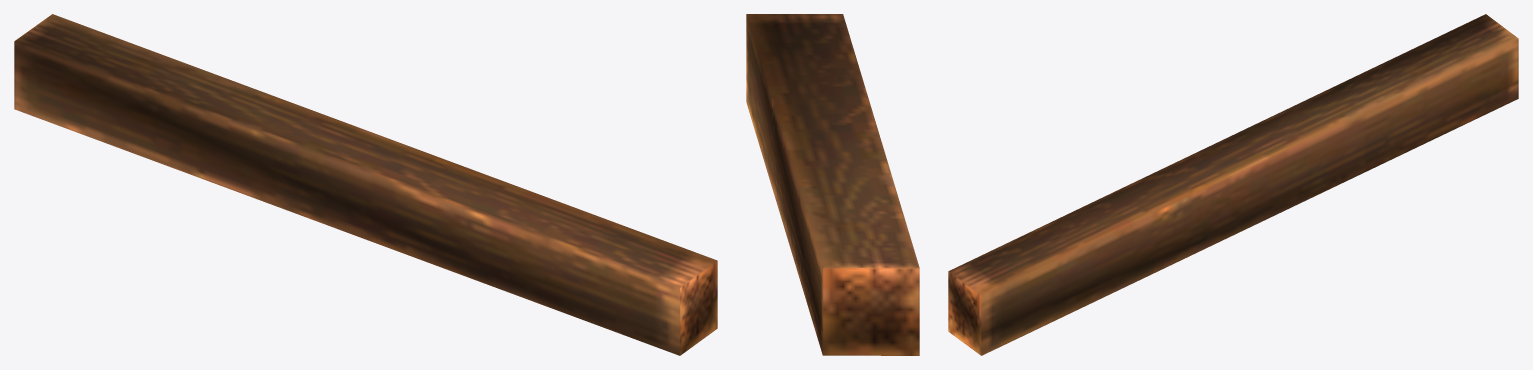
File: SWORDLIGHT20_JAILBRACE08.fbx
The picture shows the model from 3 angles, left to right: view 1: azimuth 30°, elevation 25°; view 2: azimuth 150°, elevation 25°; view 3: azimuth 270°, elevation 25°; orthographic projection. The views are drawn at different scales.
Parts seen in each view (by area): view 1: SWORDLIGHT20_JAILBRACE08; view 2: SWORDLIGHT20_JAILBRACE08; view 3: SWORDLIGHT20_JAILBRACE08.
Boxes of the visible parts, x1,y1,x2,y2 form: SWORDLIGHT20_JAILBRACE08: (14, 14, 717, 355); SWORDLIGHT20_JAILBRACE08: (746, 14, 919, 355); SWORDLIGHT20_JAILBRACE08: (948, 14, 1518, 355).
Bounding box in the file's own units: 25830 × 10671 × 34341.
1 material, 1 textured.
